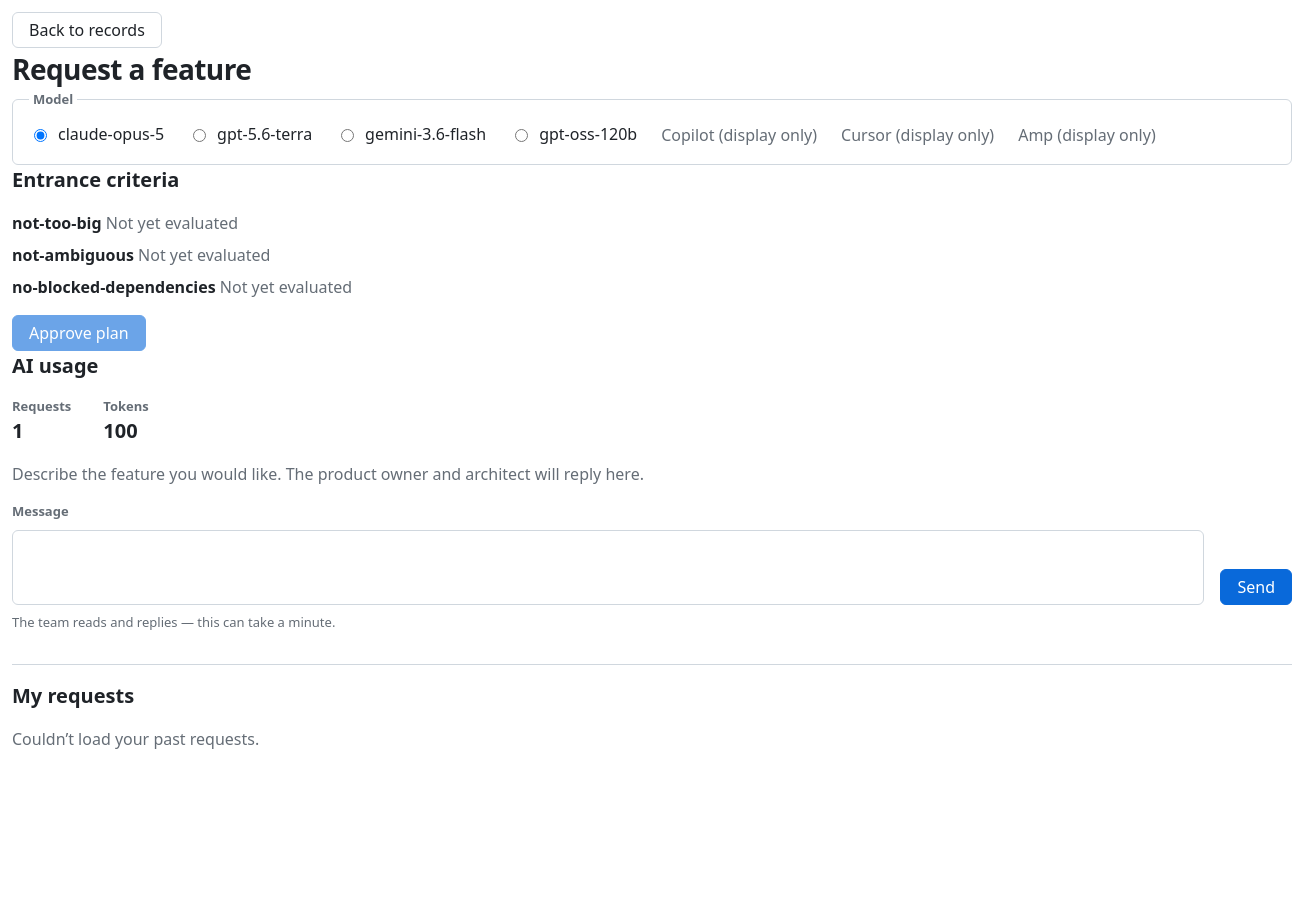
Test: DAN-54 tester · criterion 2: entrance-criteria checklist › renders each verdict and reason after an exchange, then swaps them wholesale on the next exchange
Expected: the text "Requests" is shown, [12,396,71,416]
In the text box labelled "Message": (608, 567) [12,530,1204,604], type "Export the table as CSV"
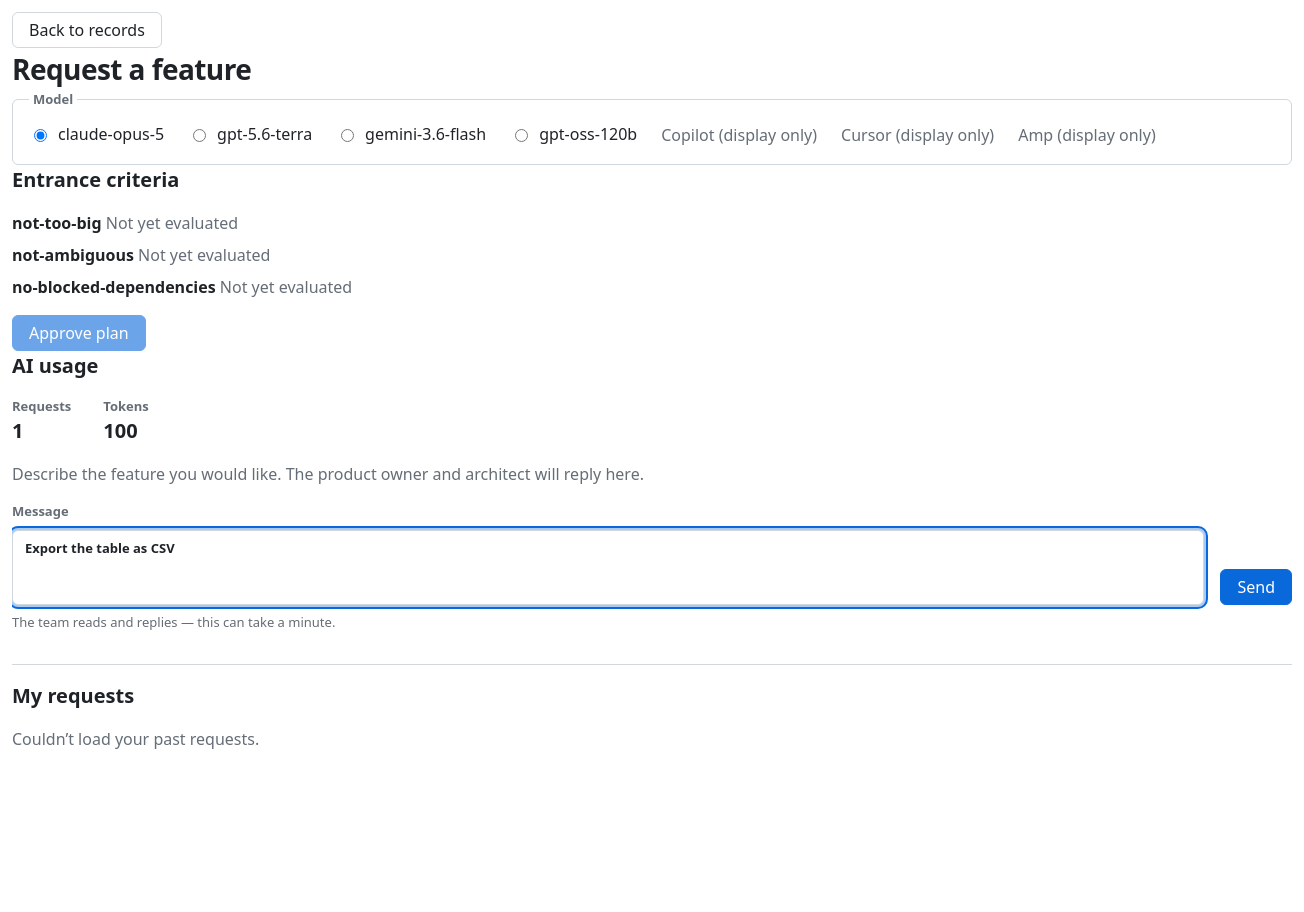
Click the button "Send": (1256, 586) [1220,568,1292,604]
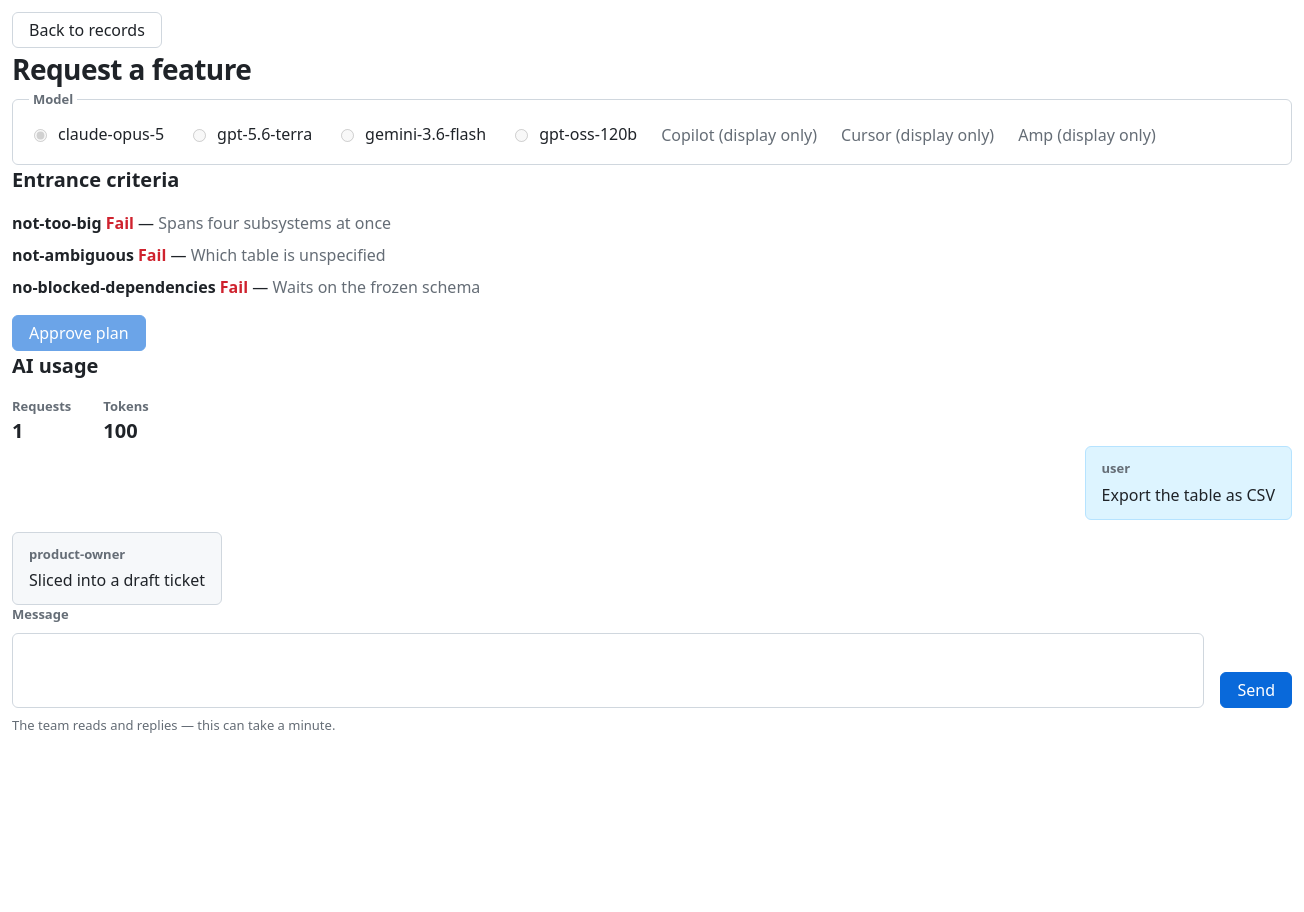
Result: the element "Entrance criteria" shows "Spans four subsystems at once" at [158,212,391,234]
Result: the list item "not-too-big Fail — Spans four subsystems at once" is shown at [12,212,391,234]
Result: the list item "not-ambiguous Fail — Which table is unspecified" is shown at [12,244,386,266]
In the text box labelled "Message": (608, 670) [12,632,1204,708], type "Only the records table, one button"
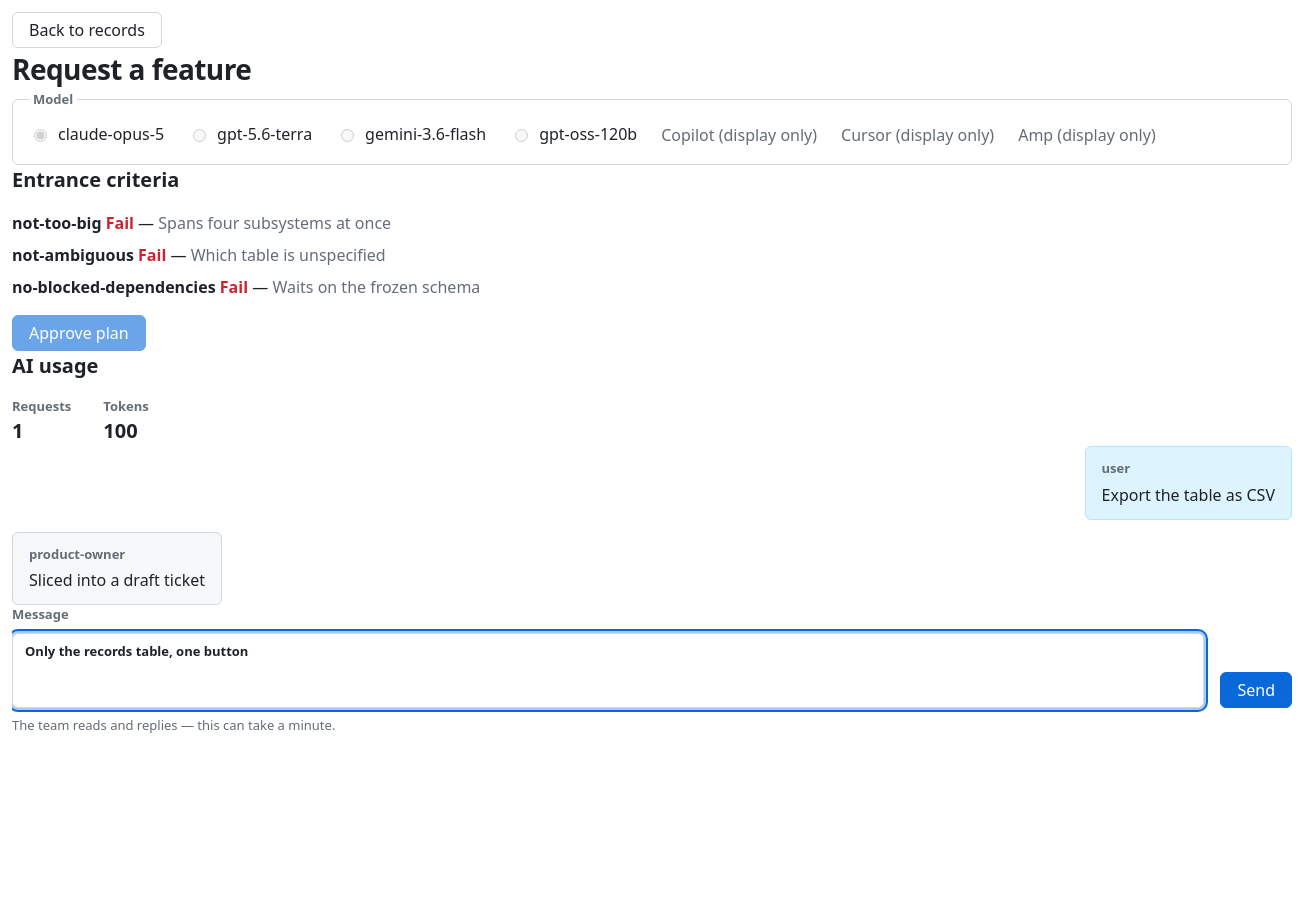
Click the button "Send": (1256, 690) [1220,672,1292,708]
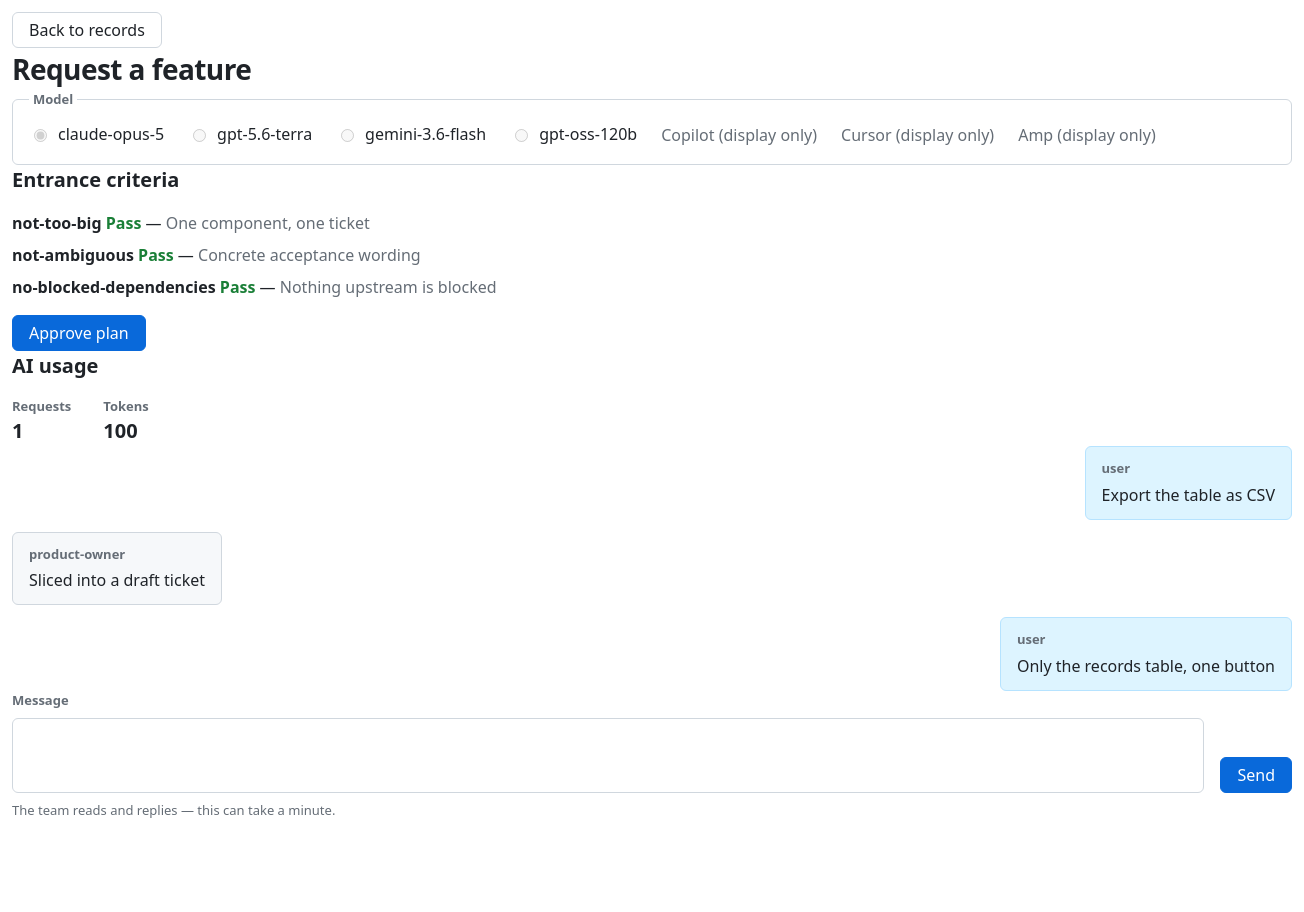
Result: the element "Entrance criteria" shows "One component, one ticket" at [166,212,370,234]
Result: the list item "not-too-big Pass — One component, one ticket" is shown at [12,212,370,234]
Result: the list item "not-too-big Pass — One component, one ticket" no longer shows "Spans four subsystems at once" at [12,212,370,234]
